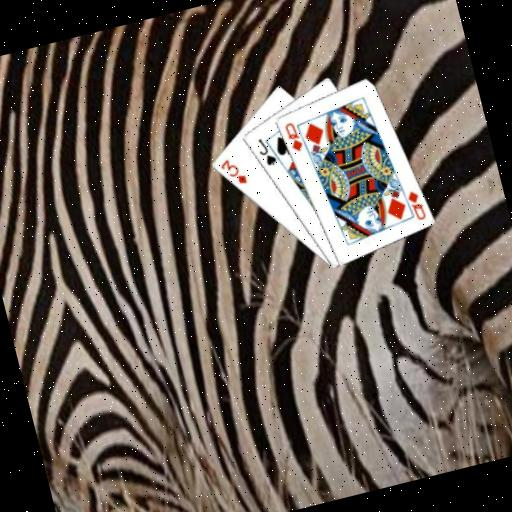3D: (215, 153, 249, 191)
JS: (252, 133, 280, 170)
QD: (403, 186, 429, 224), (280, 118, 305, 156)
